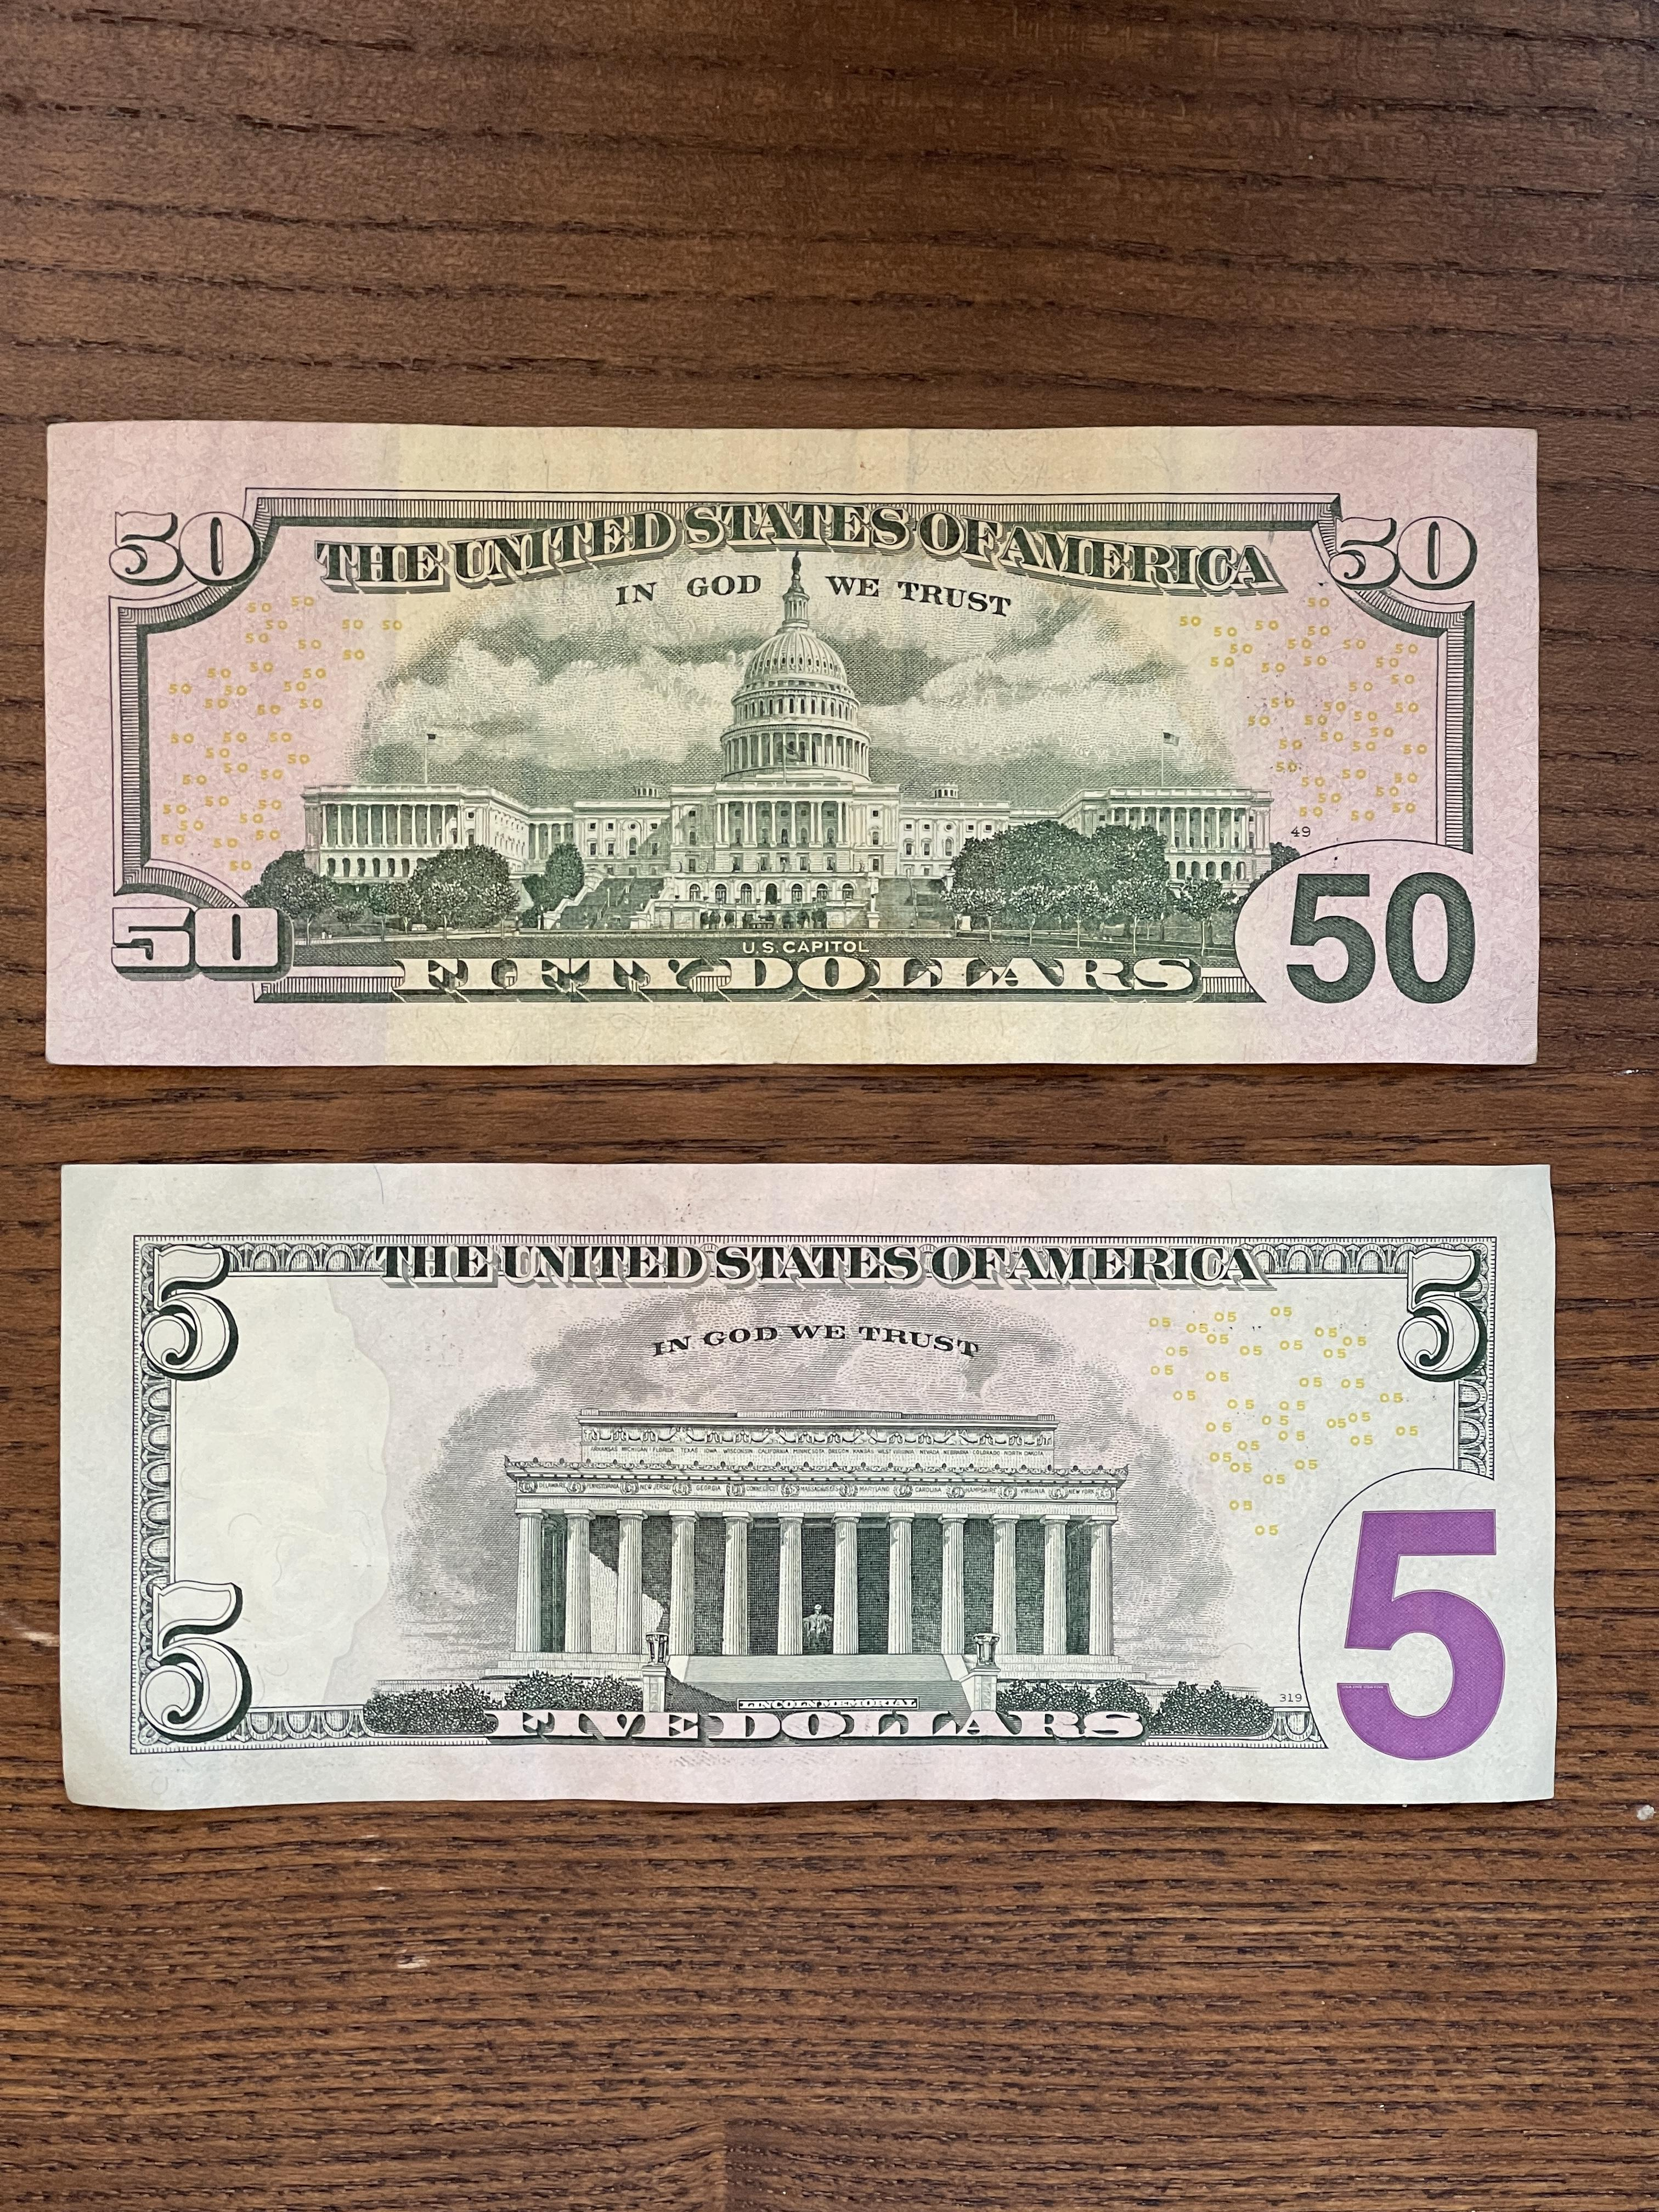FiftyBill: (40, 413, 1549, 1075)
FiveBill: (52, 1158, 1563, 1811)
